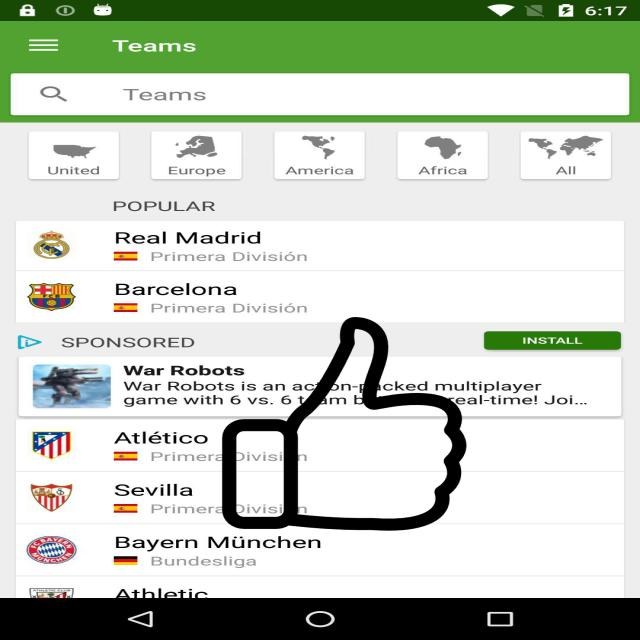privacy zuckering: (219, 317, 470, 531)
